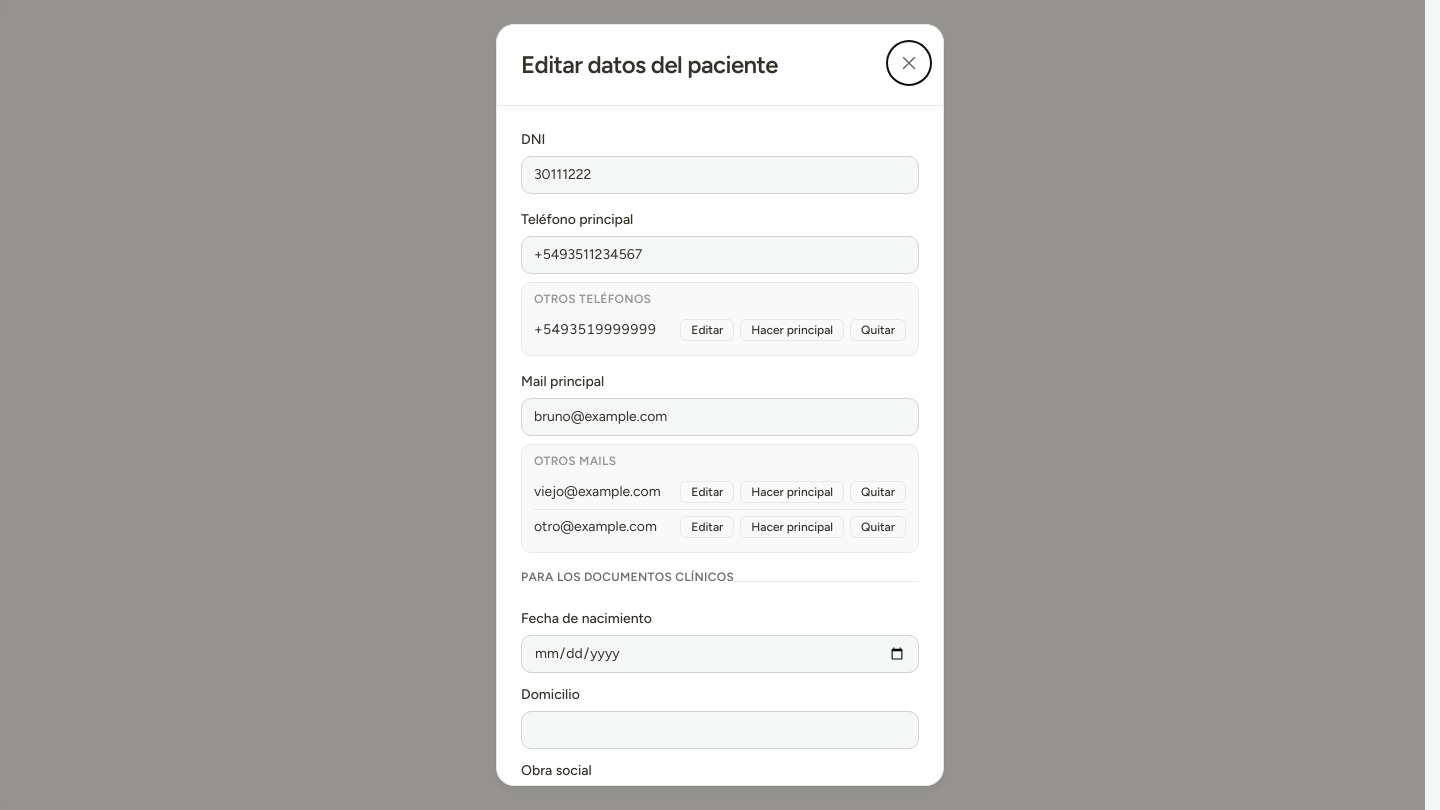
Test case: EditarPacienteModal › valida el formato de un mail alternativo
The width and height of the screenshot is (1440, 810).
Click the button with aria-label "Editar otro@example.com" at x=707, y=527, box top-left (680, 516), bottom-right (734, 538)
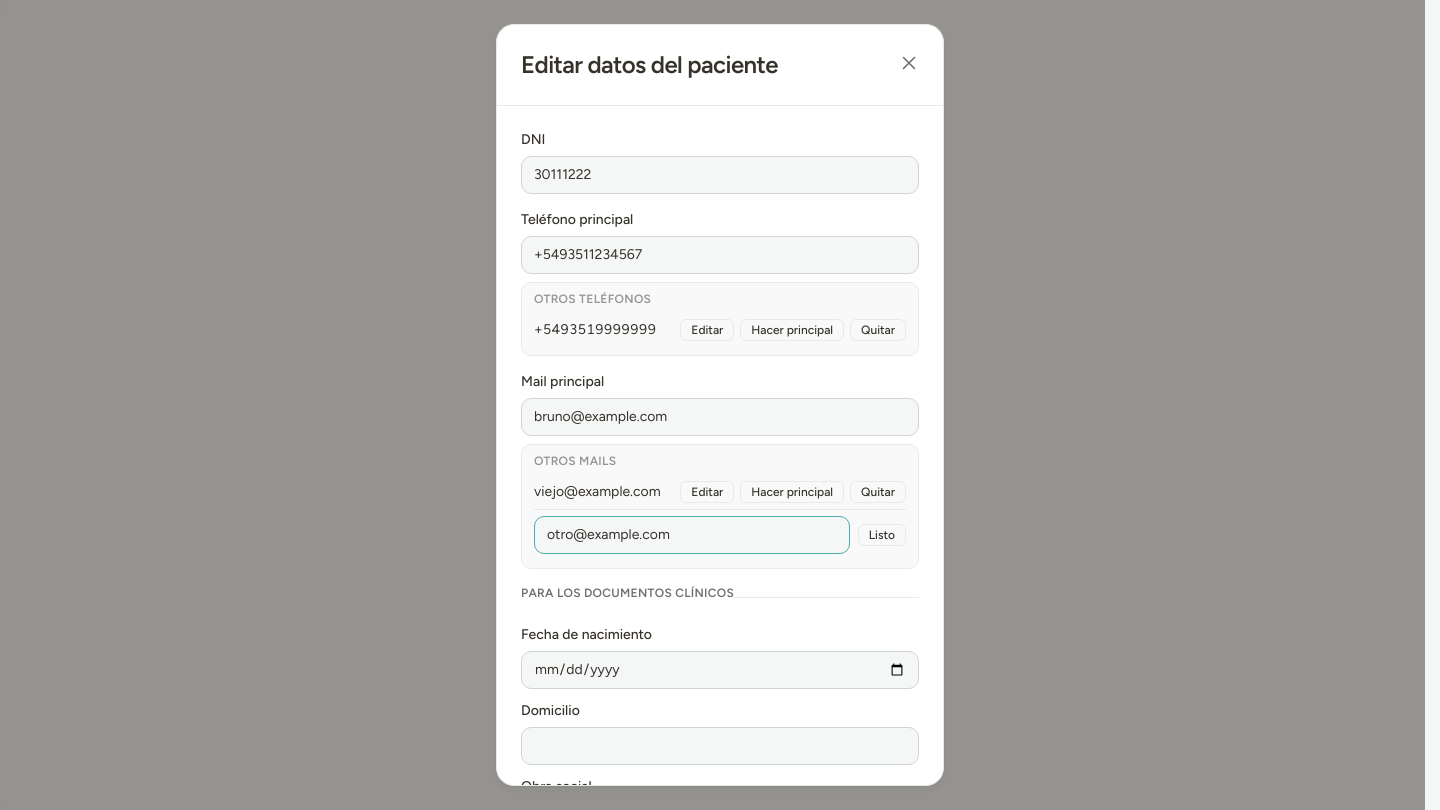
Replace the text in the field named "Editar dato 2 de otros mails" with "sin-arroba" at x=692, y=535, box top-left (534, 516), bottom-right (850, 554)
(page scrolled)
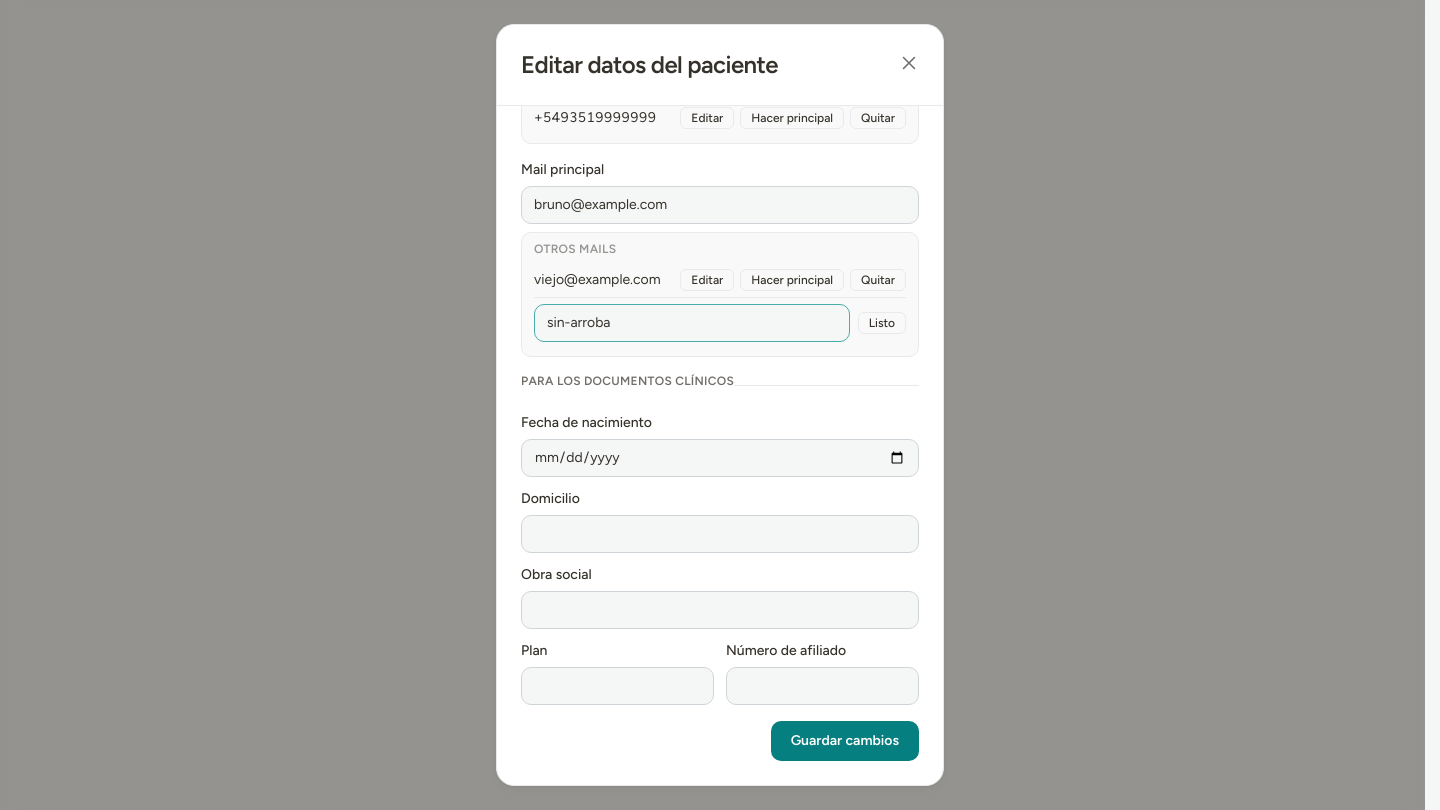
Click the button "Guardar cambios" at x=845, y=741, box top-left (771, 721), bottom-right (919, 761)
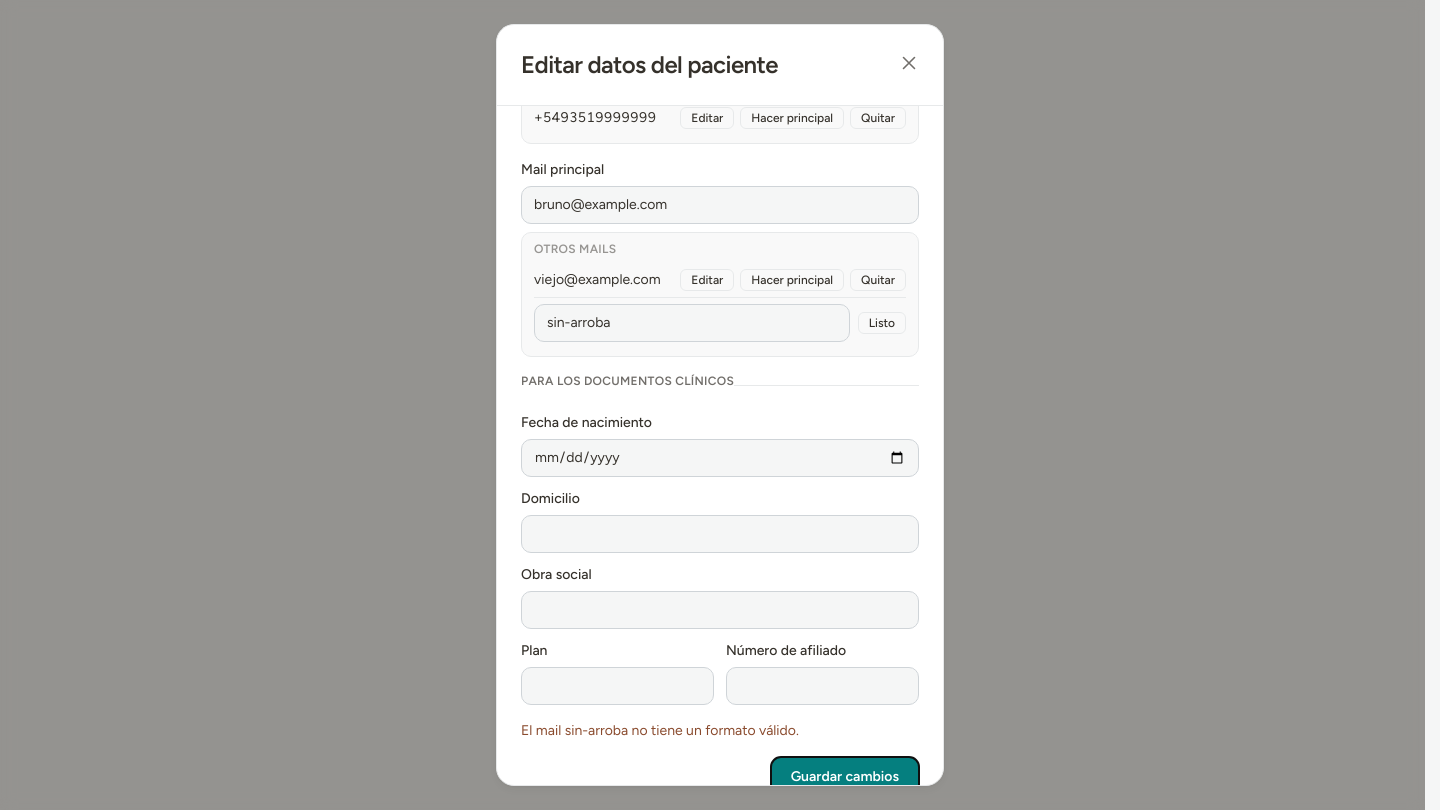
Expected: the message reads "El mail sin-arroba no tiene un formato válido.", top-left (521, 722), bottom-right (799, 739)
